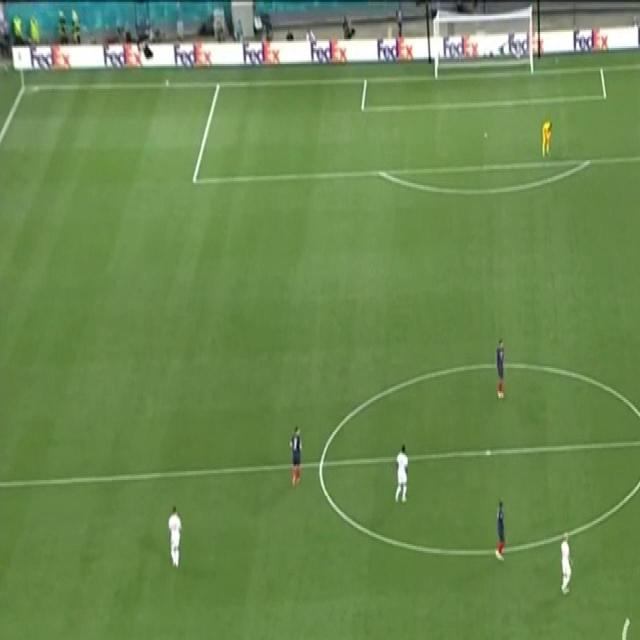player-white: (164, 506, 184, 570), (287, 421, 305, 492), (558, 526, 574, 600), (392, 443, 410, 506), (492, 335, 508, 403), (495, 496, 508, 570), (540, 115, 554, 165)
